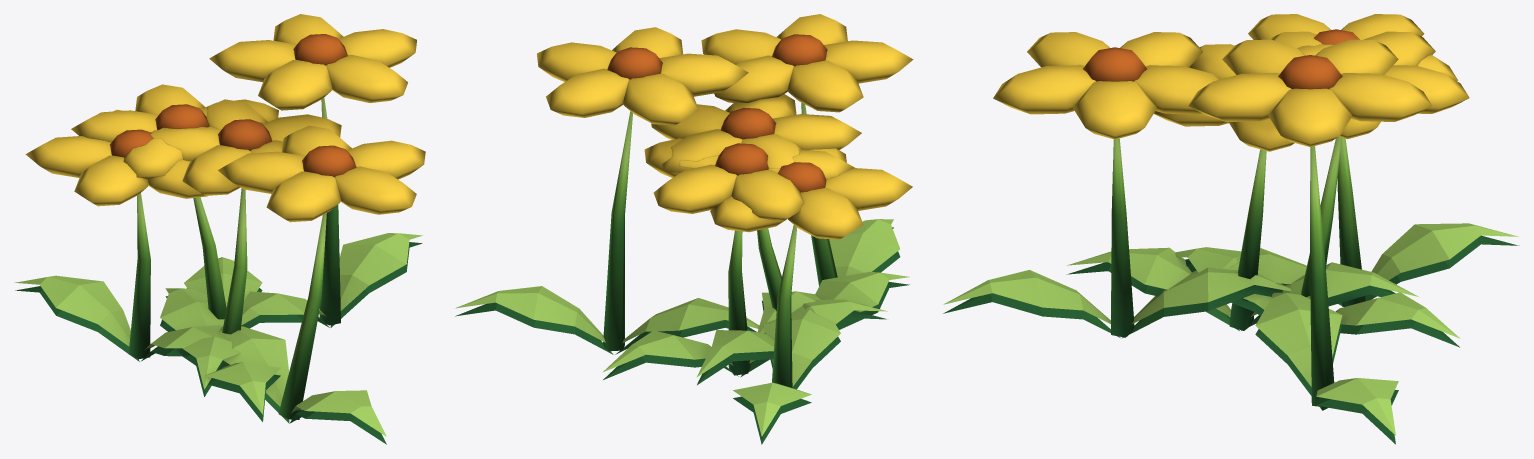
The model's file is Env_Flowers_2.glb.
The picture shows the model from 3 angles, left to right: view 1: azimuth 30°, elevation 25°; view 2: azimuth 150°, elevation 25°; view 3: azimuth 270°, elevation 25°; orthographic projection. The views are drawn at different scales.
Visible parts, largest first — view 1: Env_Flowers_2.001; view 2: Env_Flowers_2.001; view 3: Env_Flowers_2.001.
Part boxes in pixels (bbox=[...]): Env_Flowers_2.001: bbox=[14, 14, 425, 444]; Env_Flowers_2.001: bbox=[455, 14, 913, 444]; Env_Flowers_2.001: bbox=[943, 14, 1519, 444].
Bounding box in the file's own units: 1.44 × 1.05 × 1.6.
1 material, 1 textured.
